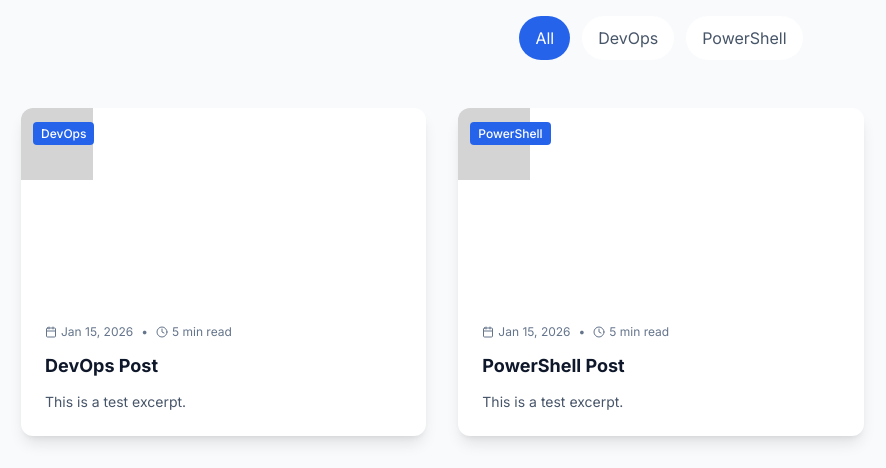
Scenario: BlogPostGrid › resets to all posts when "All" category is clicked after filtering
Filter to PowerShell
What coordinates should you click on to do the following:
click the button "PowerShell"
I would click on:
 (744, 38)
Its box is [686,16,803,60].
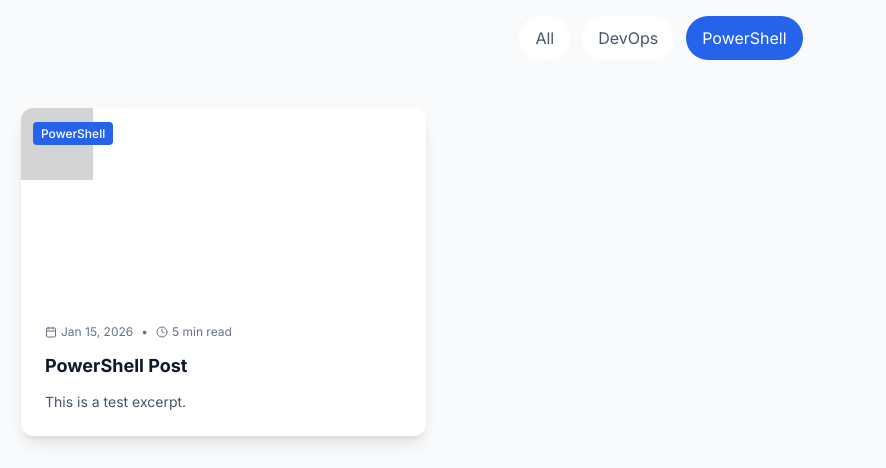
Expected: the link "DevOps Post" is gone
Reset to All
What coordinates should you click on to do the following:
click the button "All"
I would click on:
 (545, 38)
Its box is [519,16,570,60].
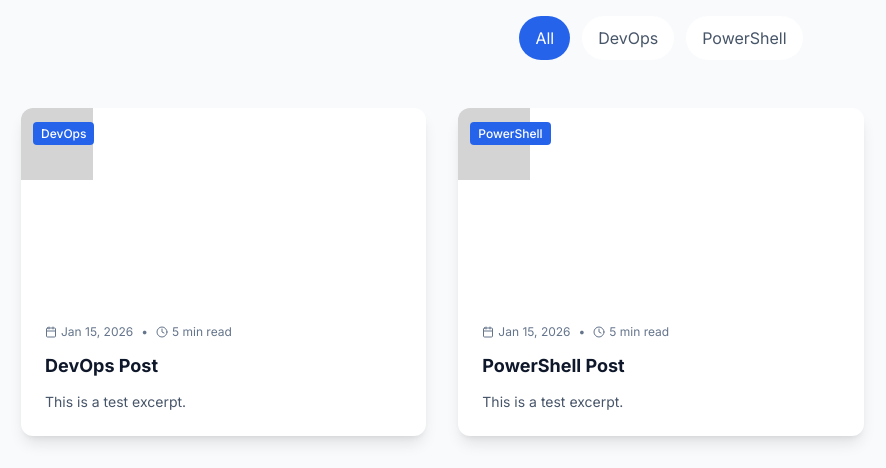
Expected: the heading "PowerShell Post" is shown, [482,355,625,376]
Expected: the heading "DevOps Post" is shown, [45,355,158,376]
